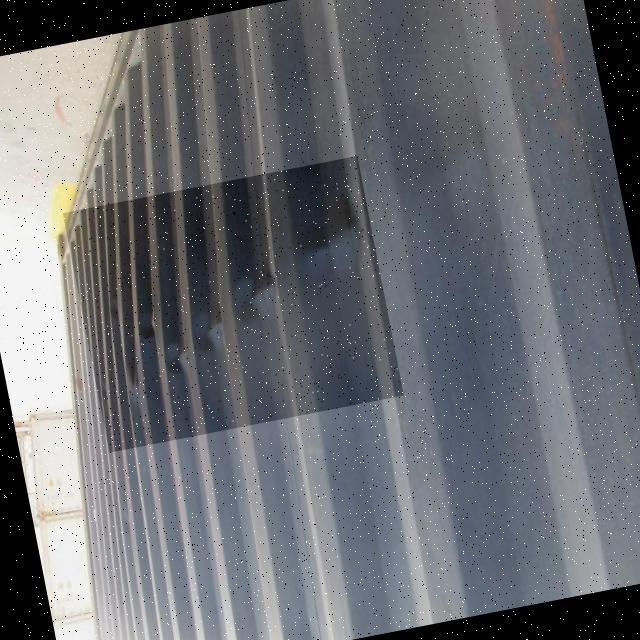Dent: (63, 155, 404, 452)
